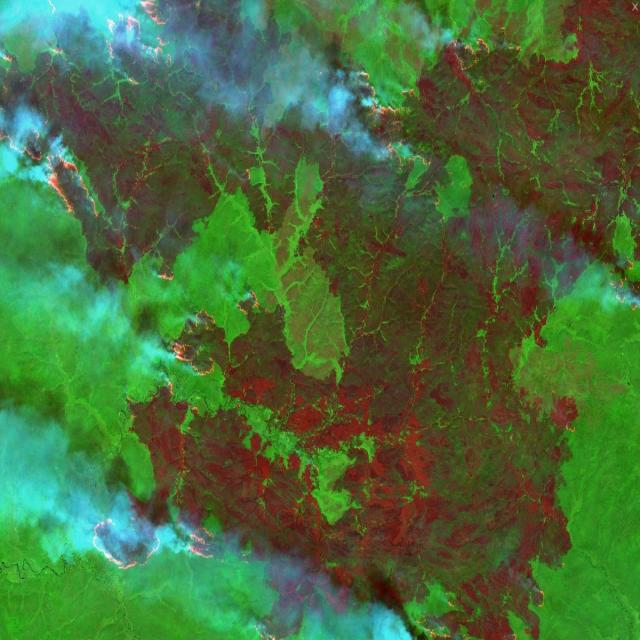fire: (0, 0, 207, 237), (142, 256, 278, 422), (311, 47, 433, 188), (80, 500, 241, 591), (598, 244, 640, 322)
